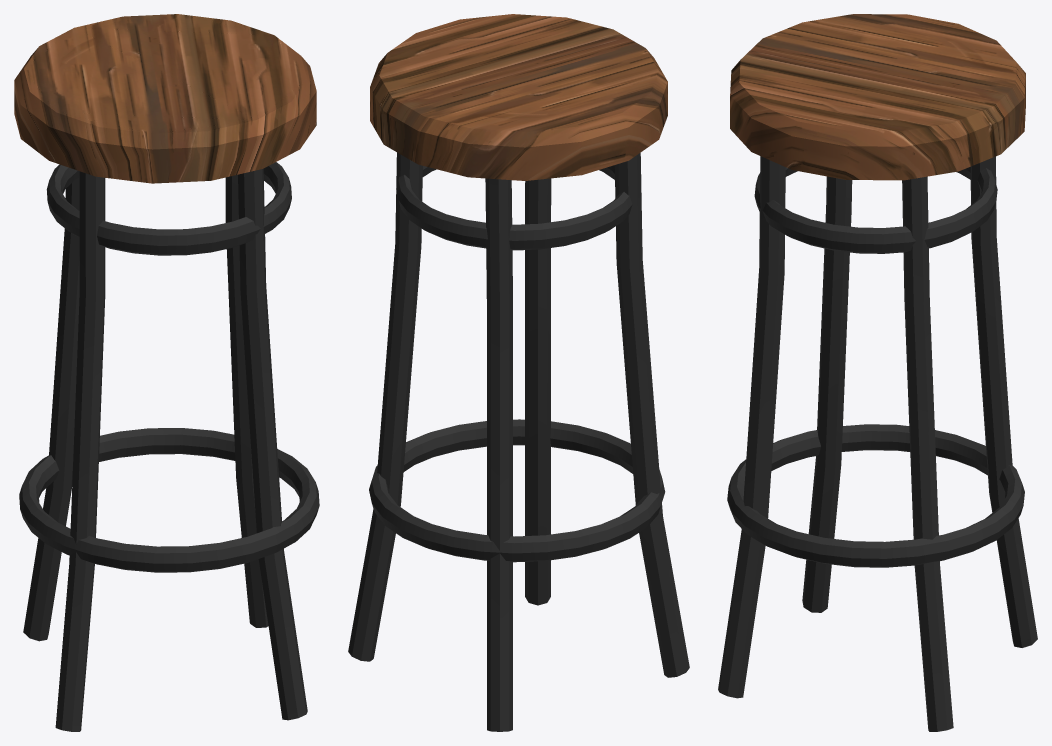
File: Stool_3.fbx
3 views of the same model, side by side, from view 1: azimuth 30°, elevation 25°; view 2: azimuth 150°, elevation 25°; view 3: azimuth 270°, elevation 25° (orthographic).
Visible parts, largest first — view 1: 1_Stool_3; view 2: 1_Stool_3; view 3: 1_Stool_3.
Boxes of the visible parts, x1,y1,x2,y2 form: 1_Stool_3: (14,14,319,731); 1_Stool_3: (348,14,689,731); 1_Stool_3: (718,14,1037,731).
Bounding box in the file's own units: 38.39 × 79.18 × 38.39.
